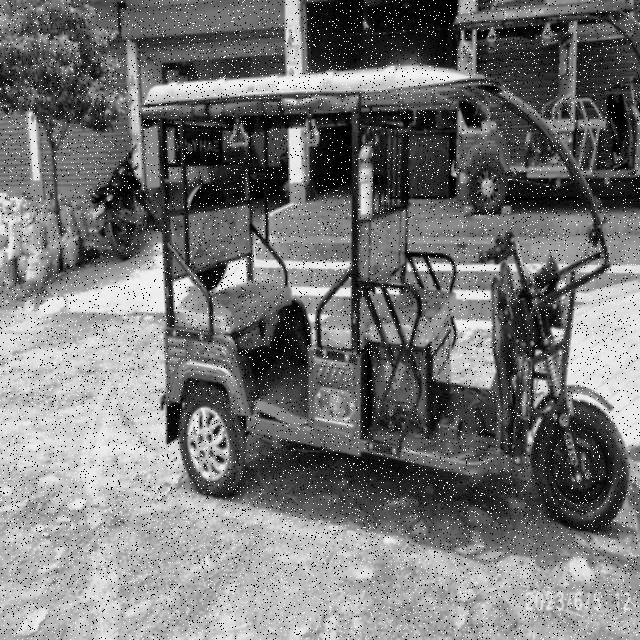Toto: (140, 58, 620, 528), (454, 0, 640, 211)
